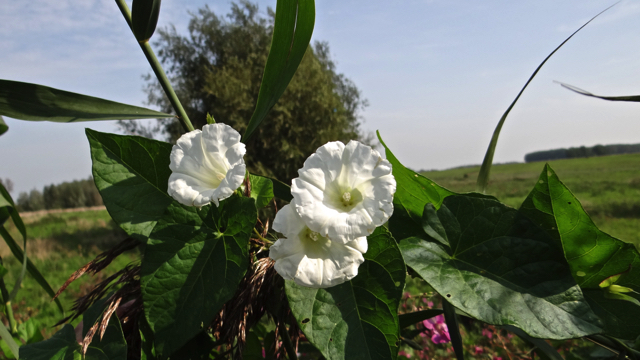haagwinde: (83, 124, 640, 358)
